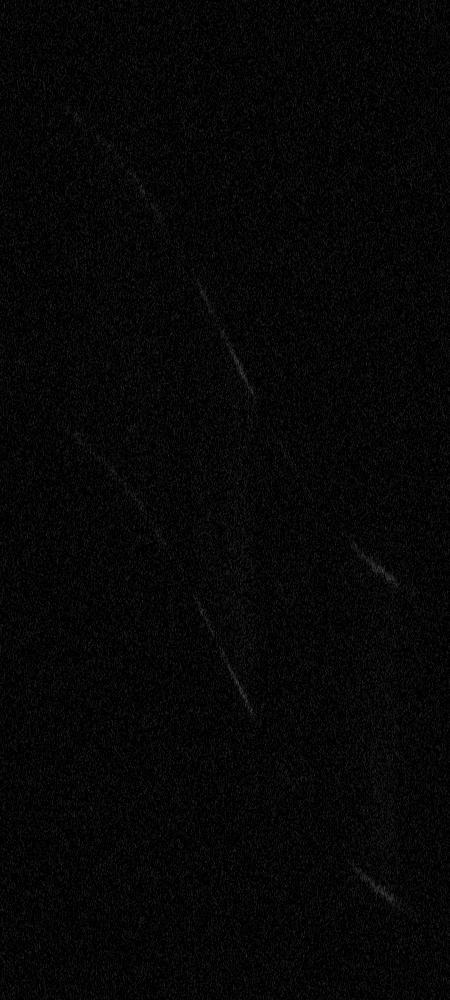signal: (0, 0, 449, 999)
